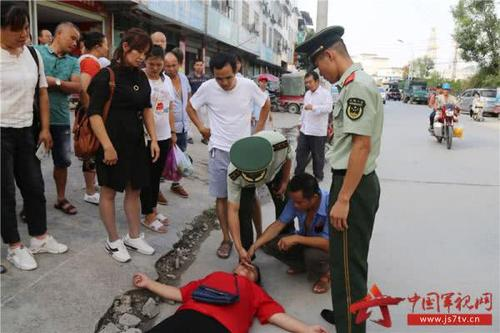10+: (1, 4, 490, 333)
down: (129, 259, 325, 333)
